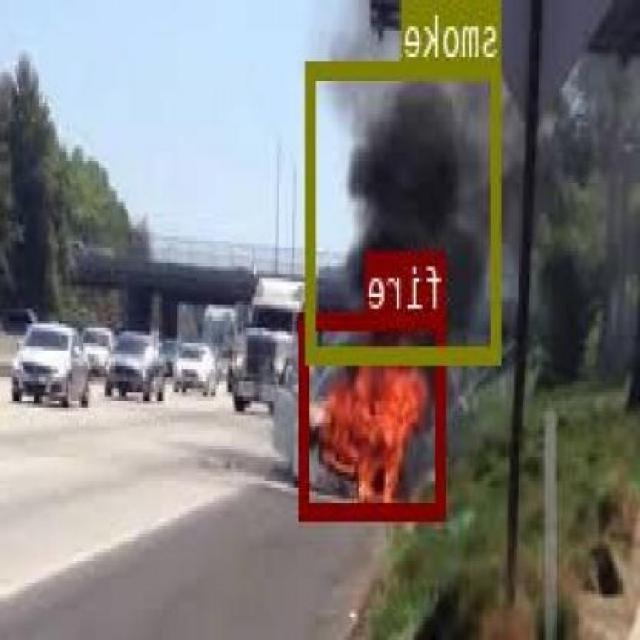Fire: (302, 310, 448, 515)
Smoke: (307, 57, 503, 360)
